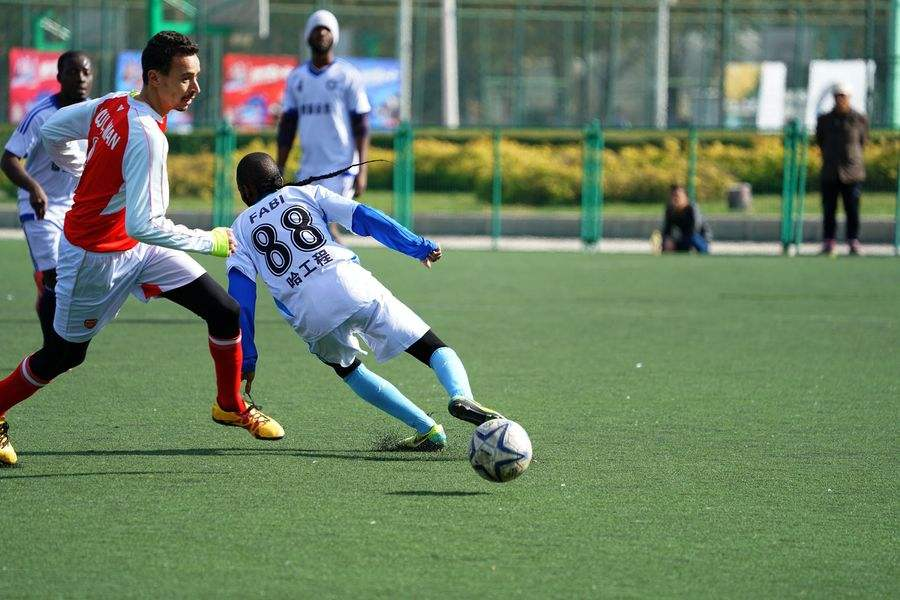football: (469, 417, 534, 483)
